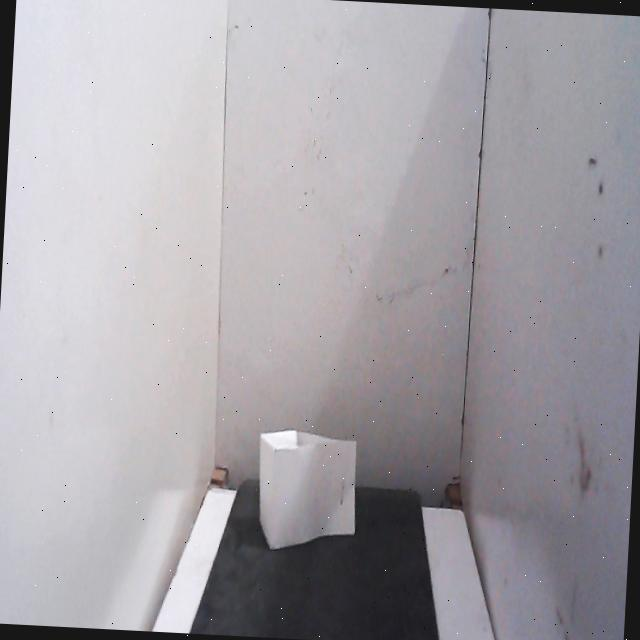papel: (251, 418, 368, 560)
